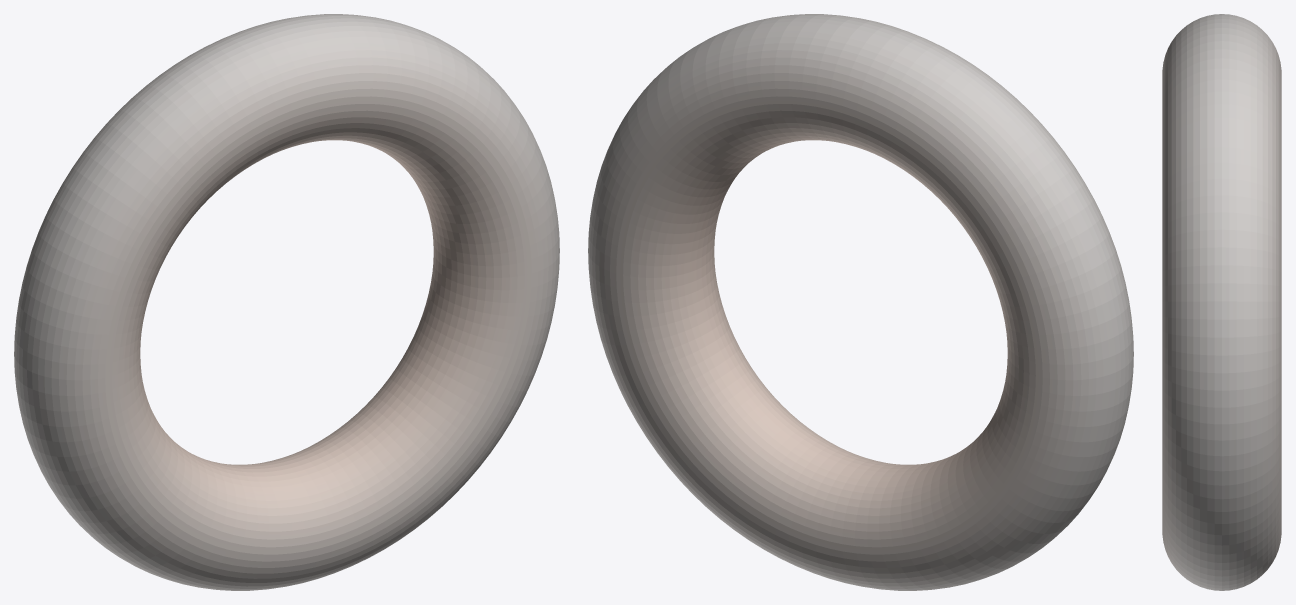
The picture shows the model from 3 angles, left to right: view 1: azimuth 30°, elevation 25°; view 2: azimuth 150°, elevation 25°; view 3: azimuth 270°, elevation 25°; orthographic projection. The views are drawn at different scales.
Parts seen in each view (by area): view 1: world; view 2: world; view 3: world.
Boxes of the visible parts, left/top/right/bottom form: world: left=14, top=14, right=559, bottom=590; world: left=588, top=14, right=1133, bottom=590; world: left=1162, top=14, right=1281, bottom=590.
Size of the model in its own units: 27.73 by 27.73 by 5.72.
